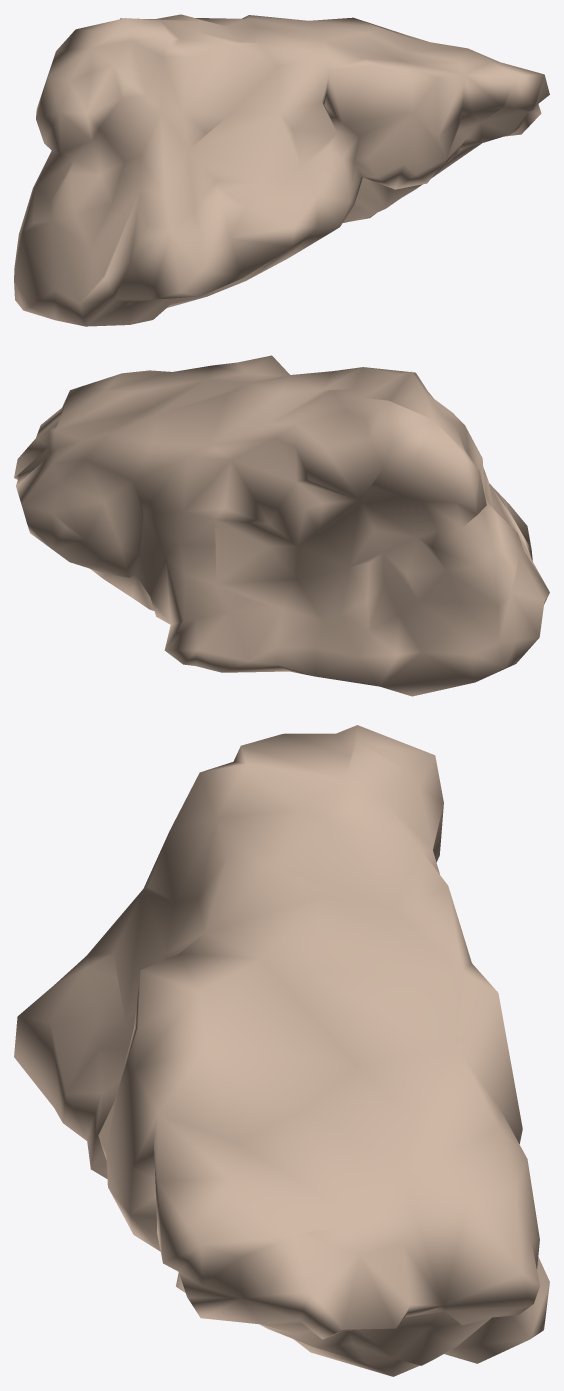
File: rk_stones_3.glb
3 renders of one model, top to bottom at view 1: azimuth 30°, elevation 25°; view 2: azimuth 150°, elevation 25°; view 3: azimuth 270°, elevation 25°, orthographic. The views are drawn at different scales.
Visible parts, largest first — view 1: namaqualand_stones_01_a; view 2: namaqualand_stones_01_a; view 3: namaqualand_stones_01_a.
Boxes of the visible parts, x1,y1,x2,y2 form: namaqualand_stones_01_a: (14, 14, 549, 326); namaqualand_stones_01_a: (14, 355, 549, 696); namaqualand_stones_01_a: (14, 725, 549, 1376).
Size of the model in its own units: 1 by 0.5597 by 0.5337.
